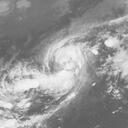cyclone: (41, 36, 94, 88)
